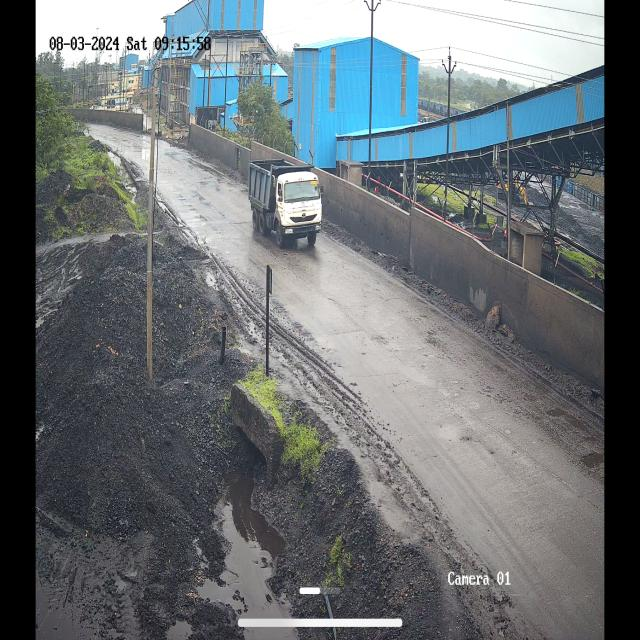dump_truck: (251, 155, 321, 244)
